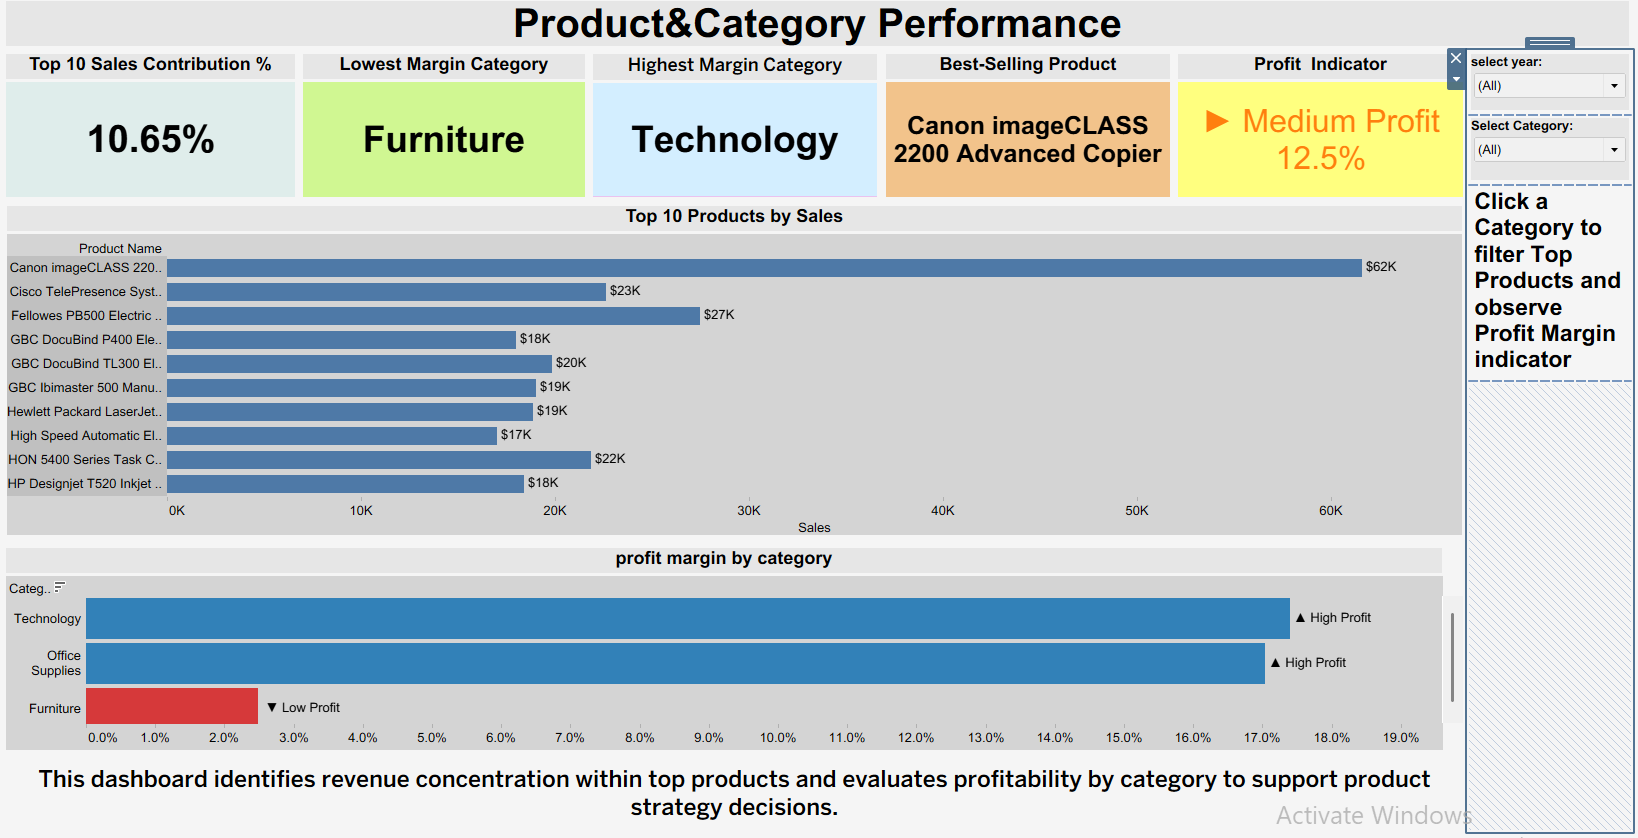

What the dashboard file says about the page in this screenshot:
{"tool":"tableau","page":{"name":"Product&Category Performance","canvas":[1000,1000],"units":"permille","ordinal":2},"visuals":[{"type":"title","box":[4.8,9.4,990.3,62.3]},{"type":"worksheet","title":"Top 10 Sales Contribution %","mark":"Text","box":[4.8,71.7,179.2,177.4]},{"type":"worksheet","title":"Lowest Margin Category","mark":"Text","box":[184.1,71.7,175,177.4]},{"type":"worksheet","title":"Most Profitable Category","mark":"Text","box":[359.1,71.7,179.5,177.4]},{"type":"worksheet","title":"Top Product by Sales","mark":"Text","box":[538.6,71.7,179.5,177.4]},{"type":"worksheet","title":"Profit  Indicator","mark":"Text","box":[718.1,71.7,176.8,177.4]},{"type":"filter","title":"top 10 products by sale","param":"[federated.18dnule1kxufxl17i8oe21v73u3z].[yr:Order Date:ok]","box":[895,71.7,100.2,75.2]},{"type":"filter","title":"profit margin by category","param":"[federated.18dnule1kxufxl17i8oe21v73u3z].[none:Category:nk]","box":[895,146.9,100.2,82.3]},{"type":"text","box":[895,229.1,100.2,230.3]},{"type":"worksheet","title":"top 10 products by sale","mark":"Automatic","rows":["Product Name"],"cols":["Sales"],"box":[4.8,249.1,890.2,403.5]},{"type":"worksheet","title":"profit margin by category","mark":"Automatic","rows":["Category"],"cols":["Calculation_0261725696192514"],"box":[4.8,652.6,890.2,247.1]},{"type":"text","box":[4.8,899.6,890.2,91]}]}

Visuals, with their boxes on the dashboard's canvas, which has no fixed pixel size, in thousandths of its width and height (x1, y1, x2, y2). These are canvas units, not pixel positions in the 1638x838 screenshot, which may show the page scaled, cropped or inside an application window:
title: 5 9 995 72
"Top 10 Sales Contribution %" worksheet (Text marks): 5 72 184 249
"Lowest Margin Category" worksheet (Text marks): 184 72 359 249
"Most Profitable Category" worksheet (Text marks): 359 72 539 249
"Top Product by Sales" worksheet (Text marks): 539 72 718 249
"Profit  Indicator" worksheet (Text marks): 718 72 895 249
"top 10 products by sale" filter: 895 72 995 147
"profit margin by category" filter: 895 147 995 229
text: 895 229 995 459
"top 10 products by sale" worksheet: 5 249 895 653
"profit margin by category" worksheet: 5 653 895 900
text: 5 900 895 991
